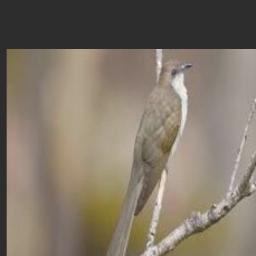Cuckoo: (102, 59, 195, 256)
